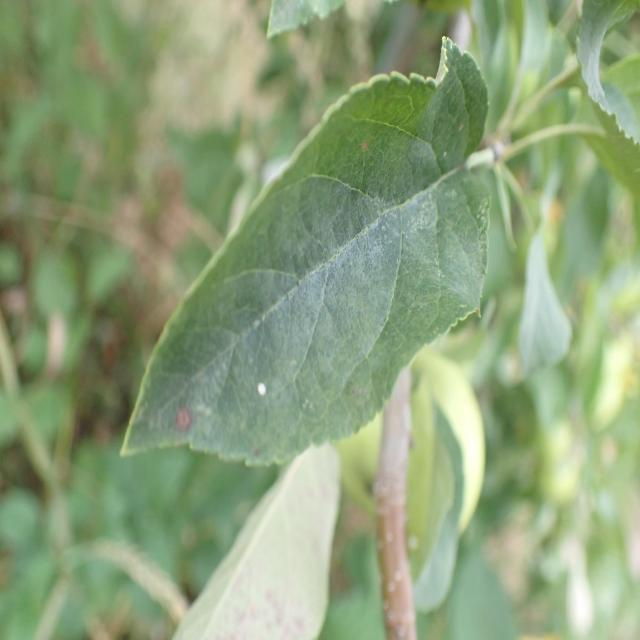frog-eye-leaf-spot: (119, 34, 492, 469)
